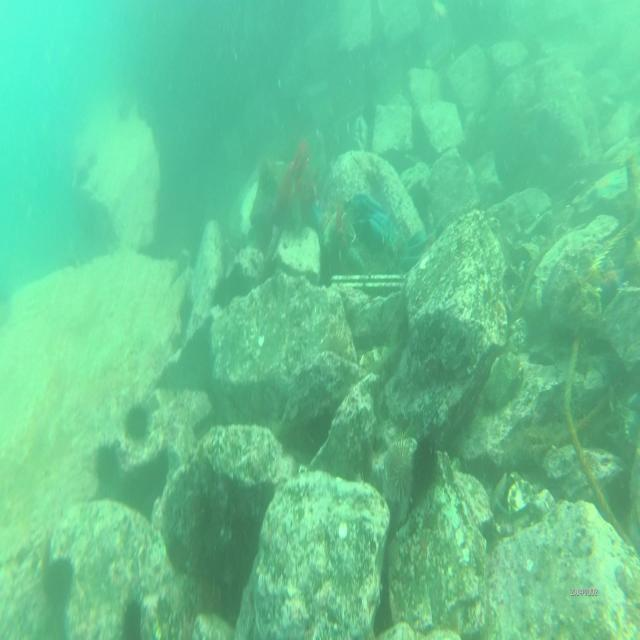echinus: (385, 432, 416, 494), (414, 430, 439, 492), (43, 557, 74, 605), (92, 439, 121, 486), (124, 400, 150, 444), (122, 595, 145, 640)
starfish: (595, 254, 625, 296)
